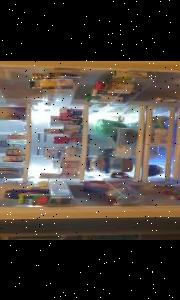Yogur: (4, 154, 26, 160), (6, 148, 25, 153)
